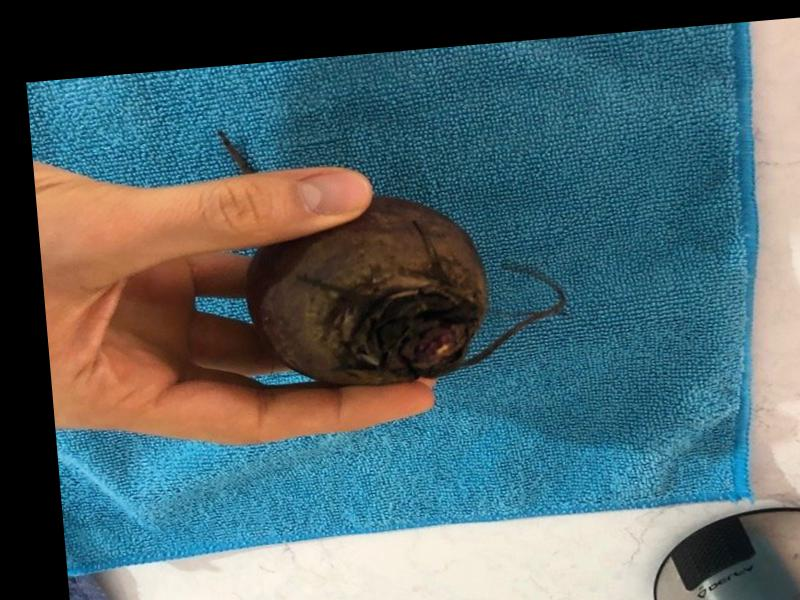Beet: (219, 104, 568, 395)
